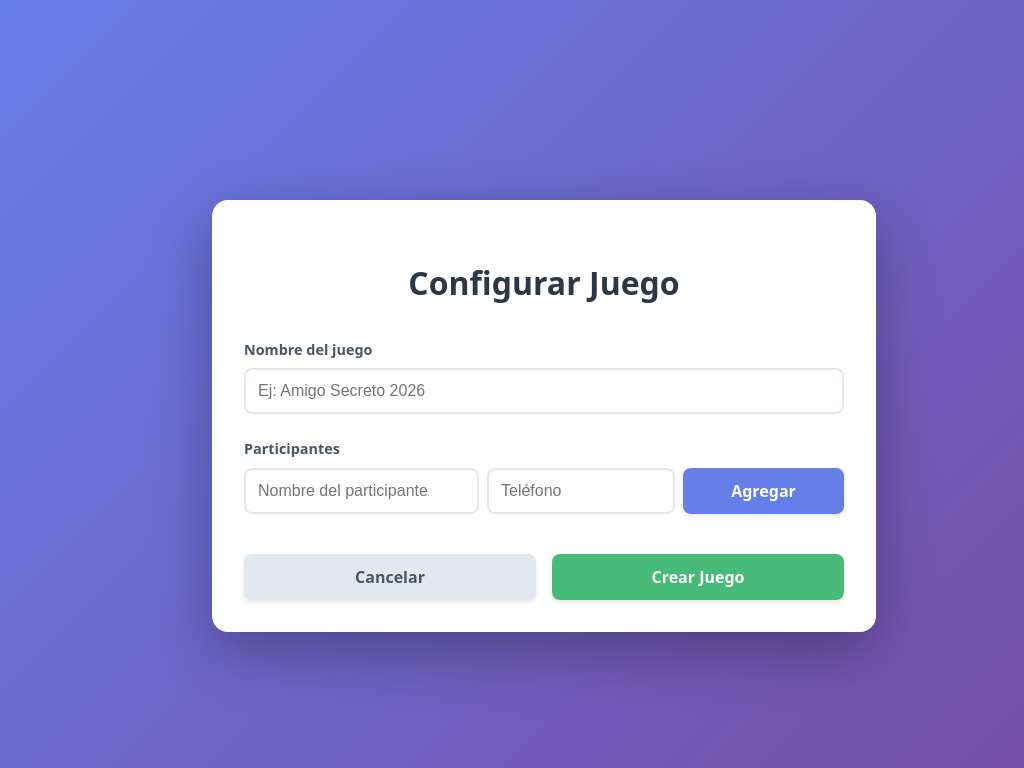
Test: GameSetup Component Tests › should remove a participant when clicking "Eliminar"
In the field with placeholder "Nombre del participante": (362, 491) left=244, top=468, right=479, bottom=514, type "Juan"
In the field with placeholder "Teléfono": (581, 491) left=487, top=468, right=675, bottom=514, type "+1111111111"
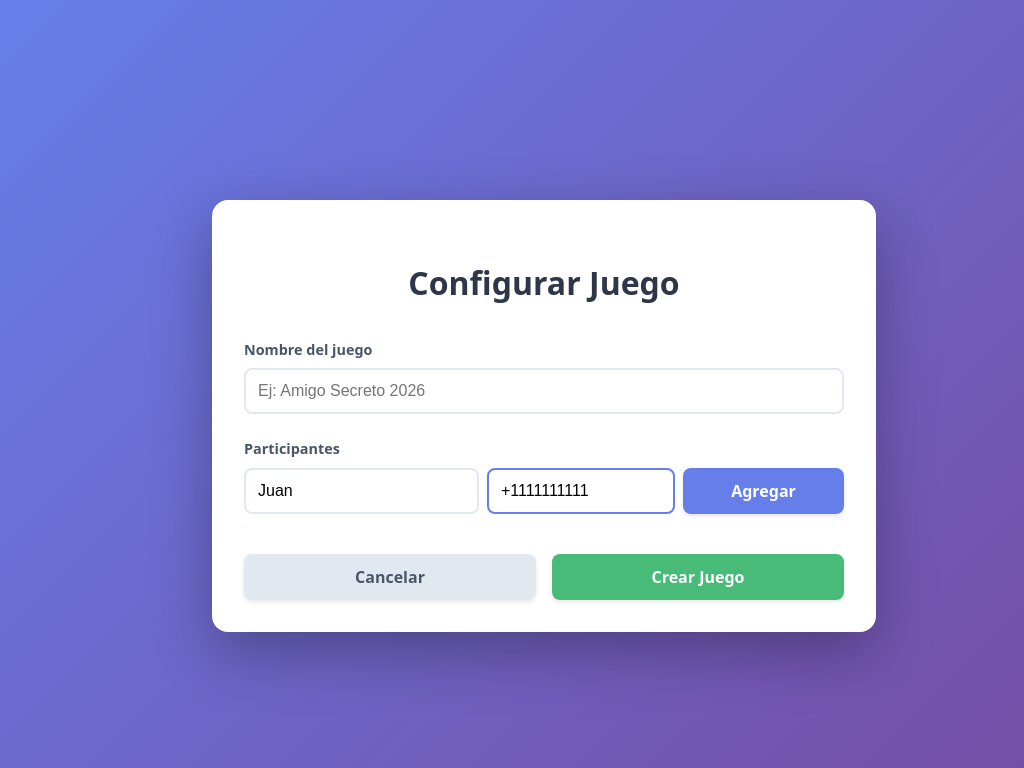
Click the button "Agregar": (764, 491) left=683, top=468, right=844, bottom=514
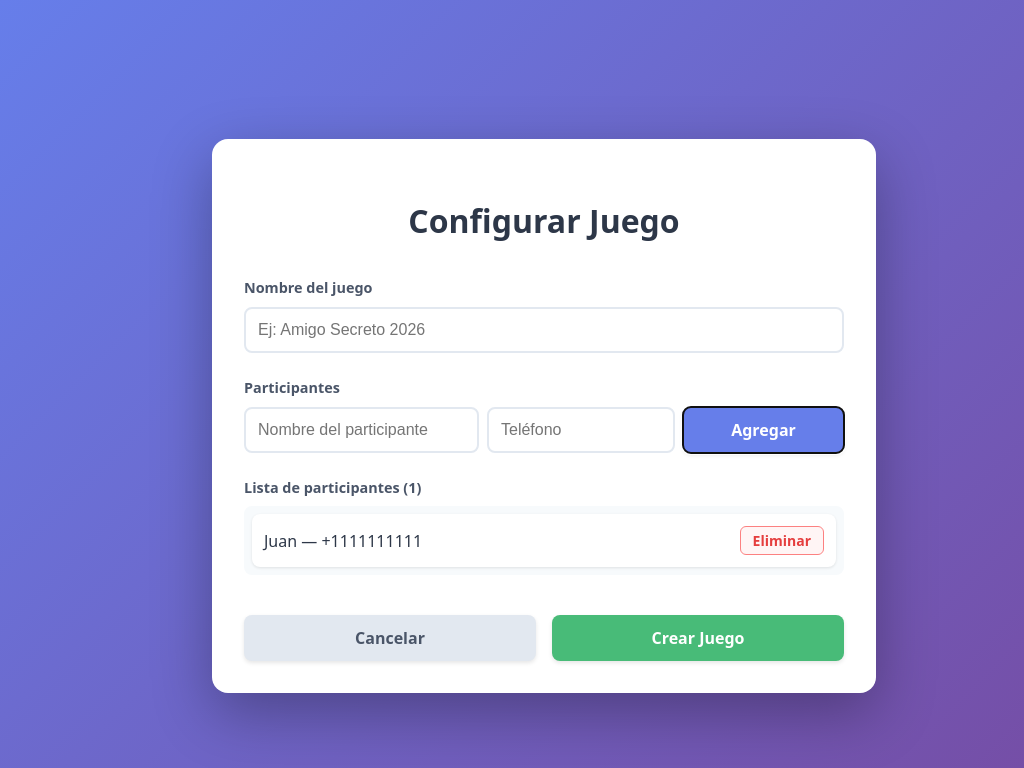
In the field with placeholder "Nombre del participante": (362, 430) left=244, top=407, right=479, bottom=453, type "Maria"
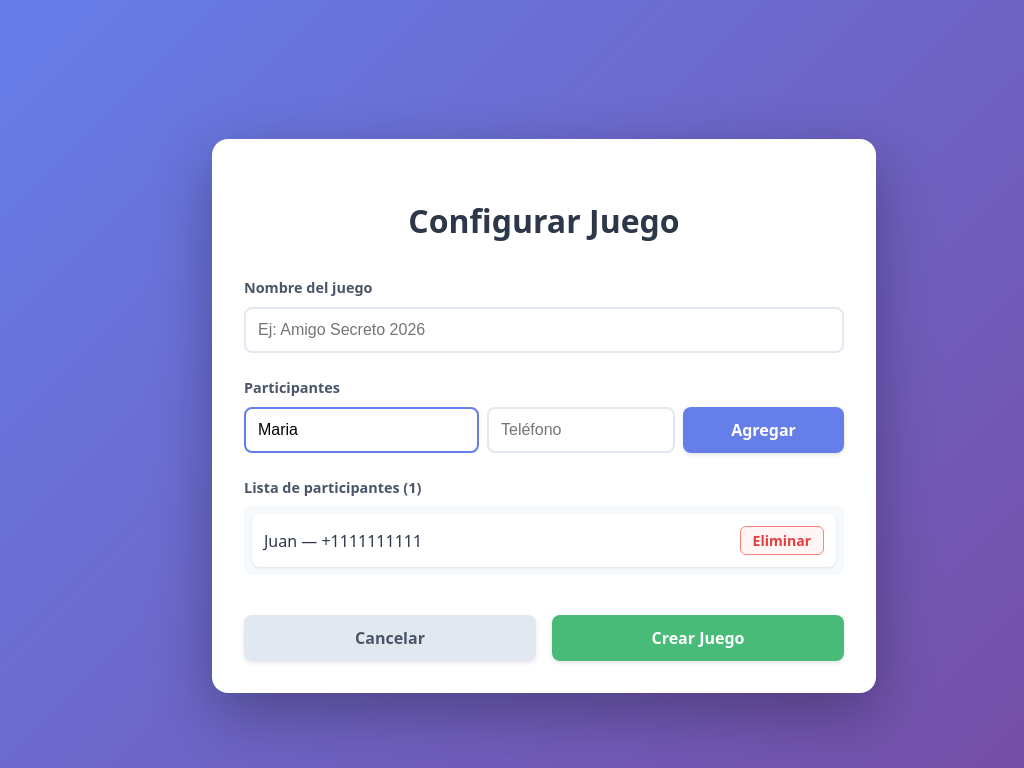
In the field with placeholder "Teléfono": (581, 430) left=487, top=407, right=675, bottom=453, type "+2222222222"
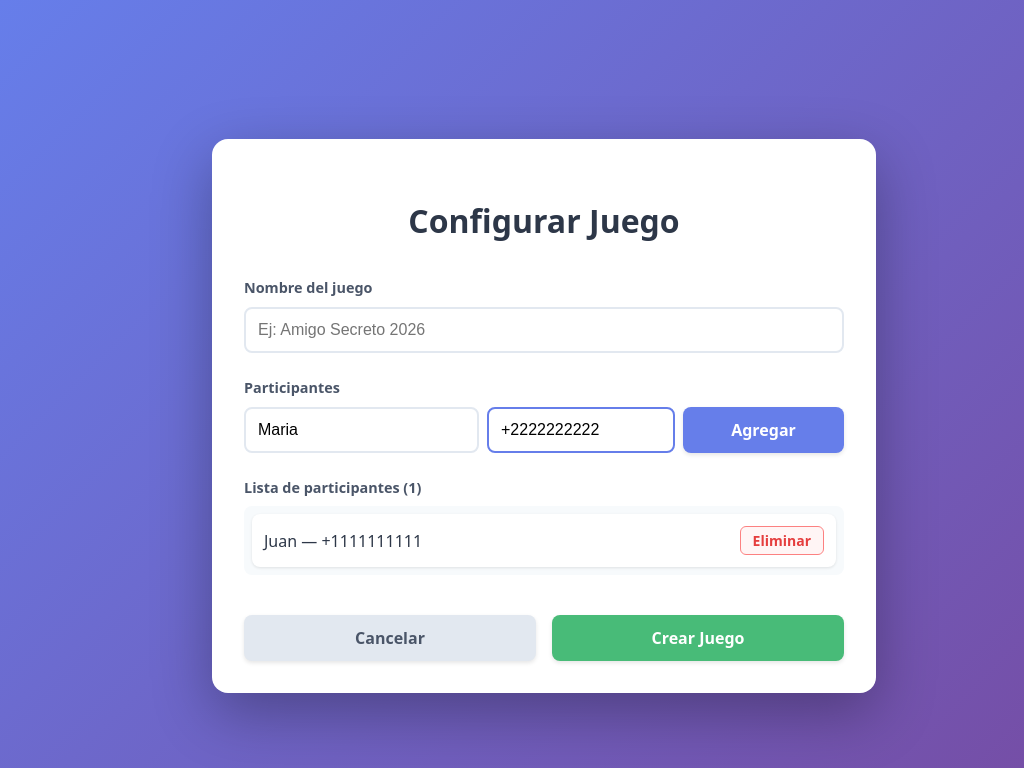
Click the button "Agregar": (764, 430) left=683, top=407, right=844, bottom=453
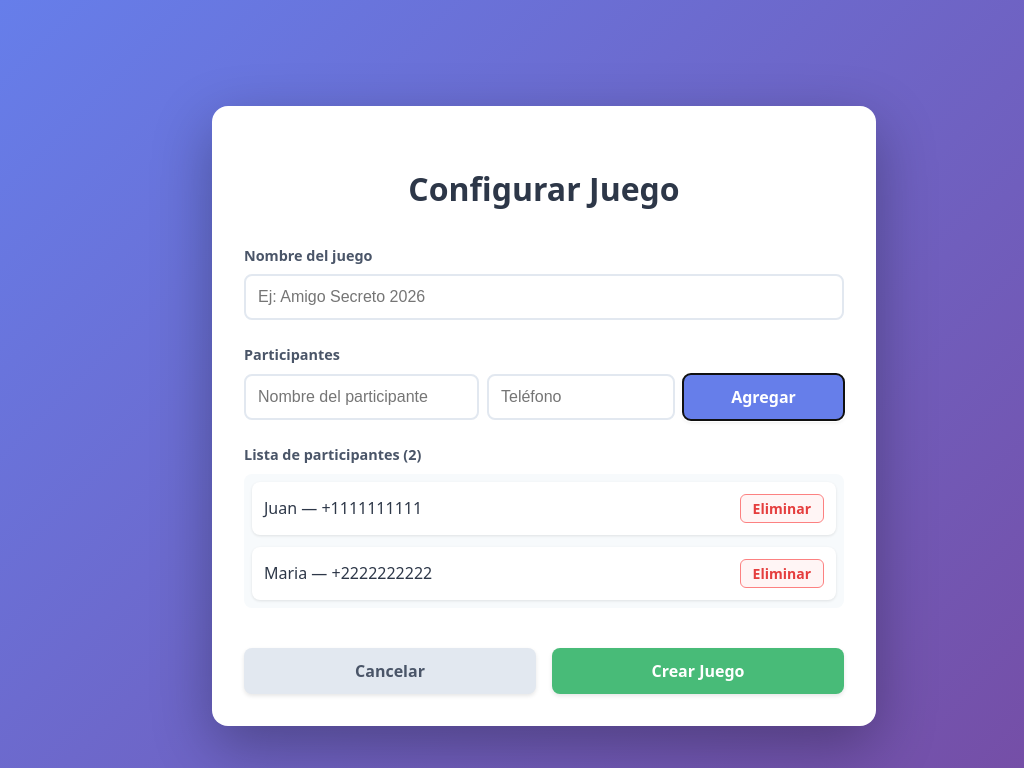
Check: the text "Lista de participantes (2)" is shown, box left=244, top=445, right=421, bottom=464
Click the button "Eliminar" in the row of "+1111111111": (782, 508) left=740, top=494, right=824, bottom=523
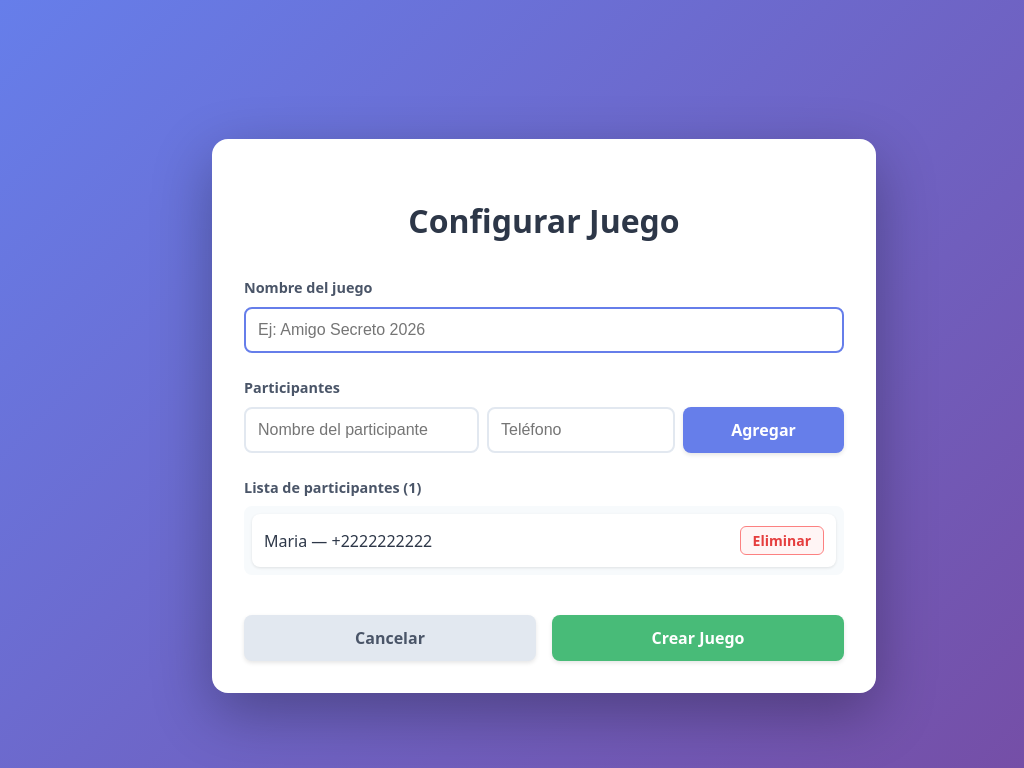
Check: the text "Juan — +1111111111" is gone
Check: the text "Maria — +2222222222" is shown, box left=264, top=529, right=432, bottom=553
Check: the text "Lista de participantes (1)" is shown, box left=244, top=478, right=421, bottom=497
